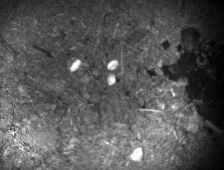corn: (127, 145, 146, 164), (67, 57, 84, 76), (104, 71, 118, 87), (105, 58, 121, 72)
